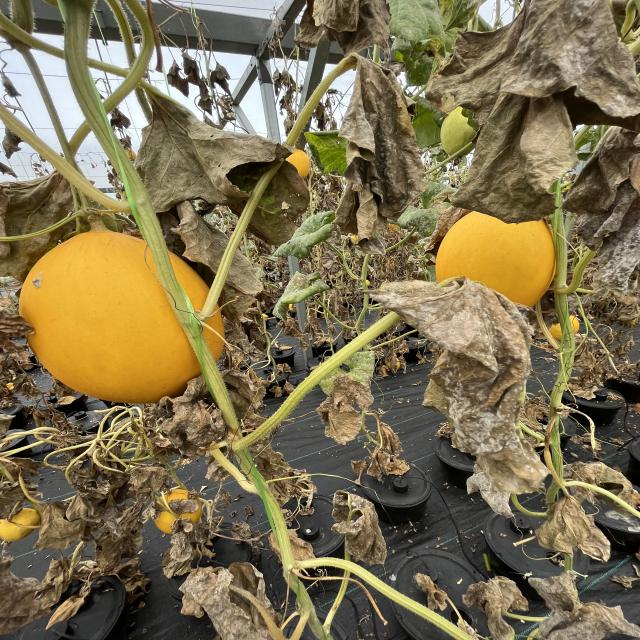alternaria leaf blight: (375, 276, 553, 514), (573, 458, 640, 505)
bacterial wilt: (137, 88, 302, 240), (423, 0, 639, 114), (455, 79, 561, 221), (344, 52, 423, 238), (175, 206, 261, 325), (565, 123, 639, 245), (1, 175, 83, 278), (532, 571, 636, 640), (182, 561, 272, 640), (148, 378, 220, 456), (299, 0, 394, 58), (0, 550, 59, 637), (579, 239, 640, 323), (539, 495, 610, 565), (319, 353, 372, 442), (334, 489, 388, 567), (221, 343, 270, 426), (91, 520, 144, 596), (464, 575, 524, 640), (258, 446, 312, 517), (34, 493, 91, 549), (167, 519, 210, 576), (180, 53, 212, 115), (368, 422, 404, 472), (85, 489, 141, 519), (413, 574, 450, 614), (126, 463, 173, 492), (166, 495, 200, 517)
